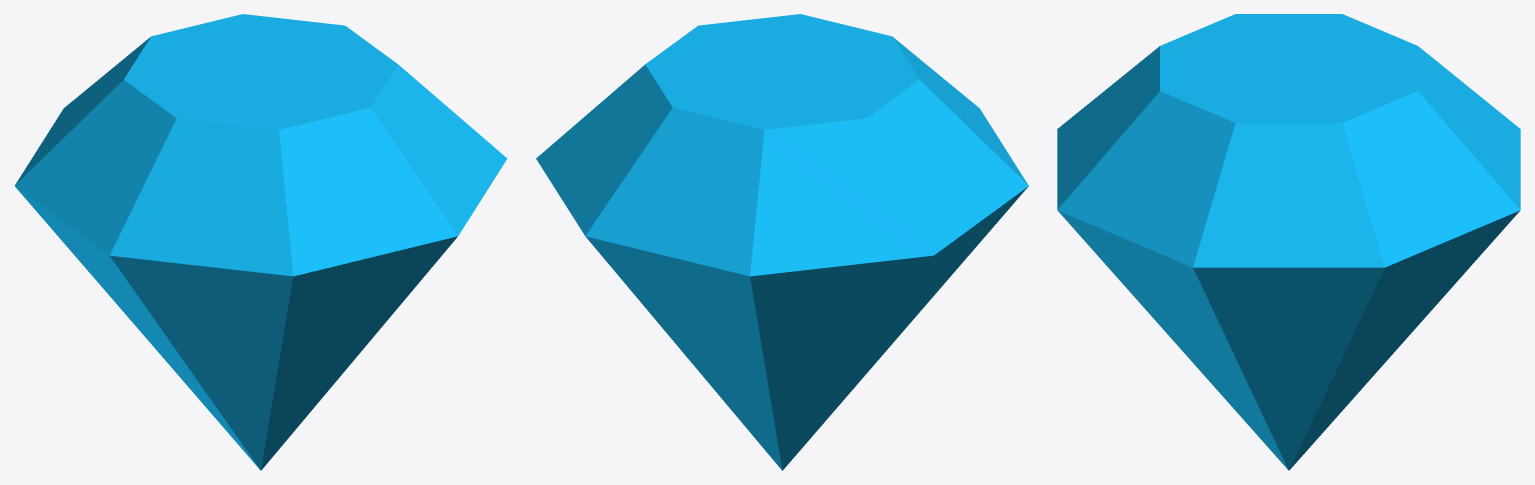
The model's file is Gem.glb.
The picture shows the model from 3 angles, left to right: view 1: azimuth 30°, elevation 25°; view 2: azimuth 150°, elevation 25°; view 3: azimuth 270°, elevation 25°; orthographic projection.
Visible parts, largest first — view 1: red_gem; view 2: red_gem; view 3: red_gem.
Boxes of the visible parts, <box> form: red_gem: <box>14,14,507,470</box>; red_gem: <box>536,14,1028,470</box>; red_gem: <box>1057,14,1520,470</box>.
Bounding box in the file's own units: 0.0129 × 0.0124 × 0.0129.
